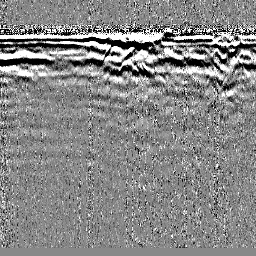cavity: (118, 57, 139, 75)
